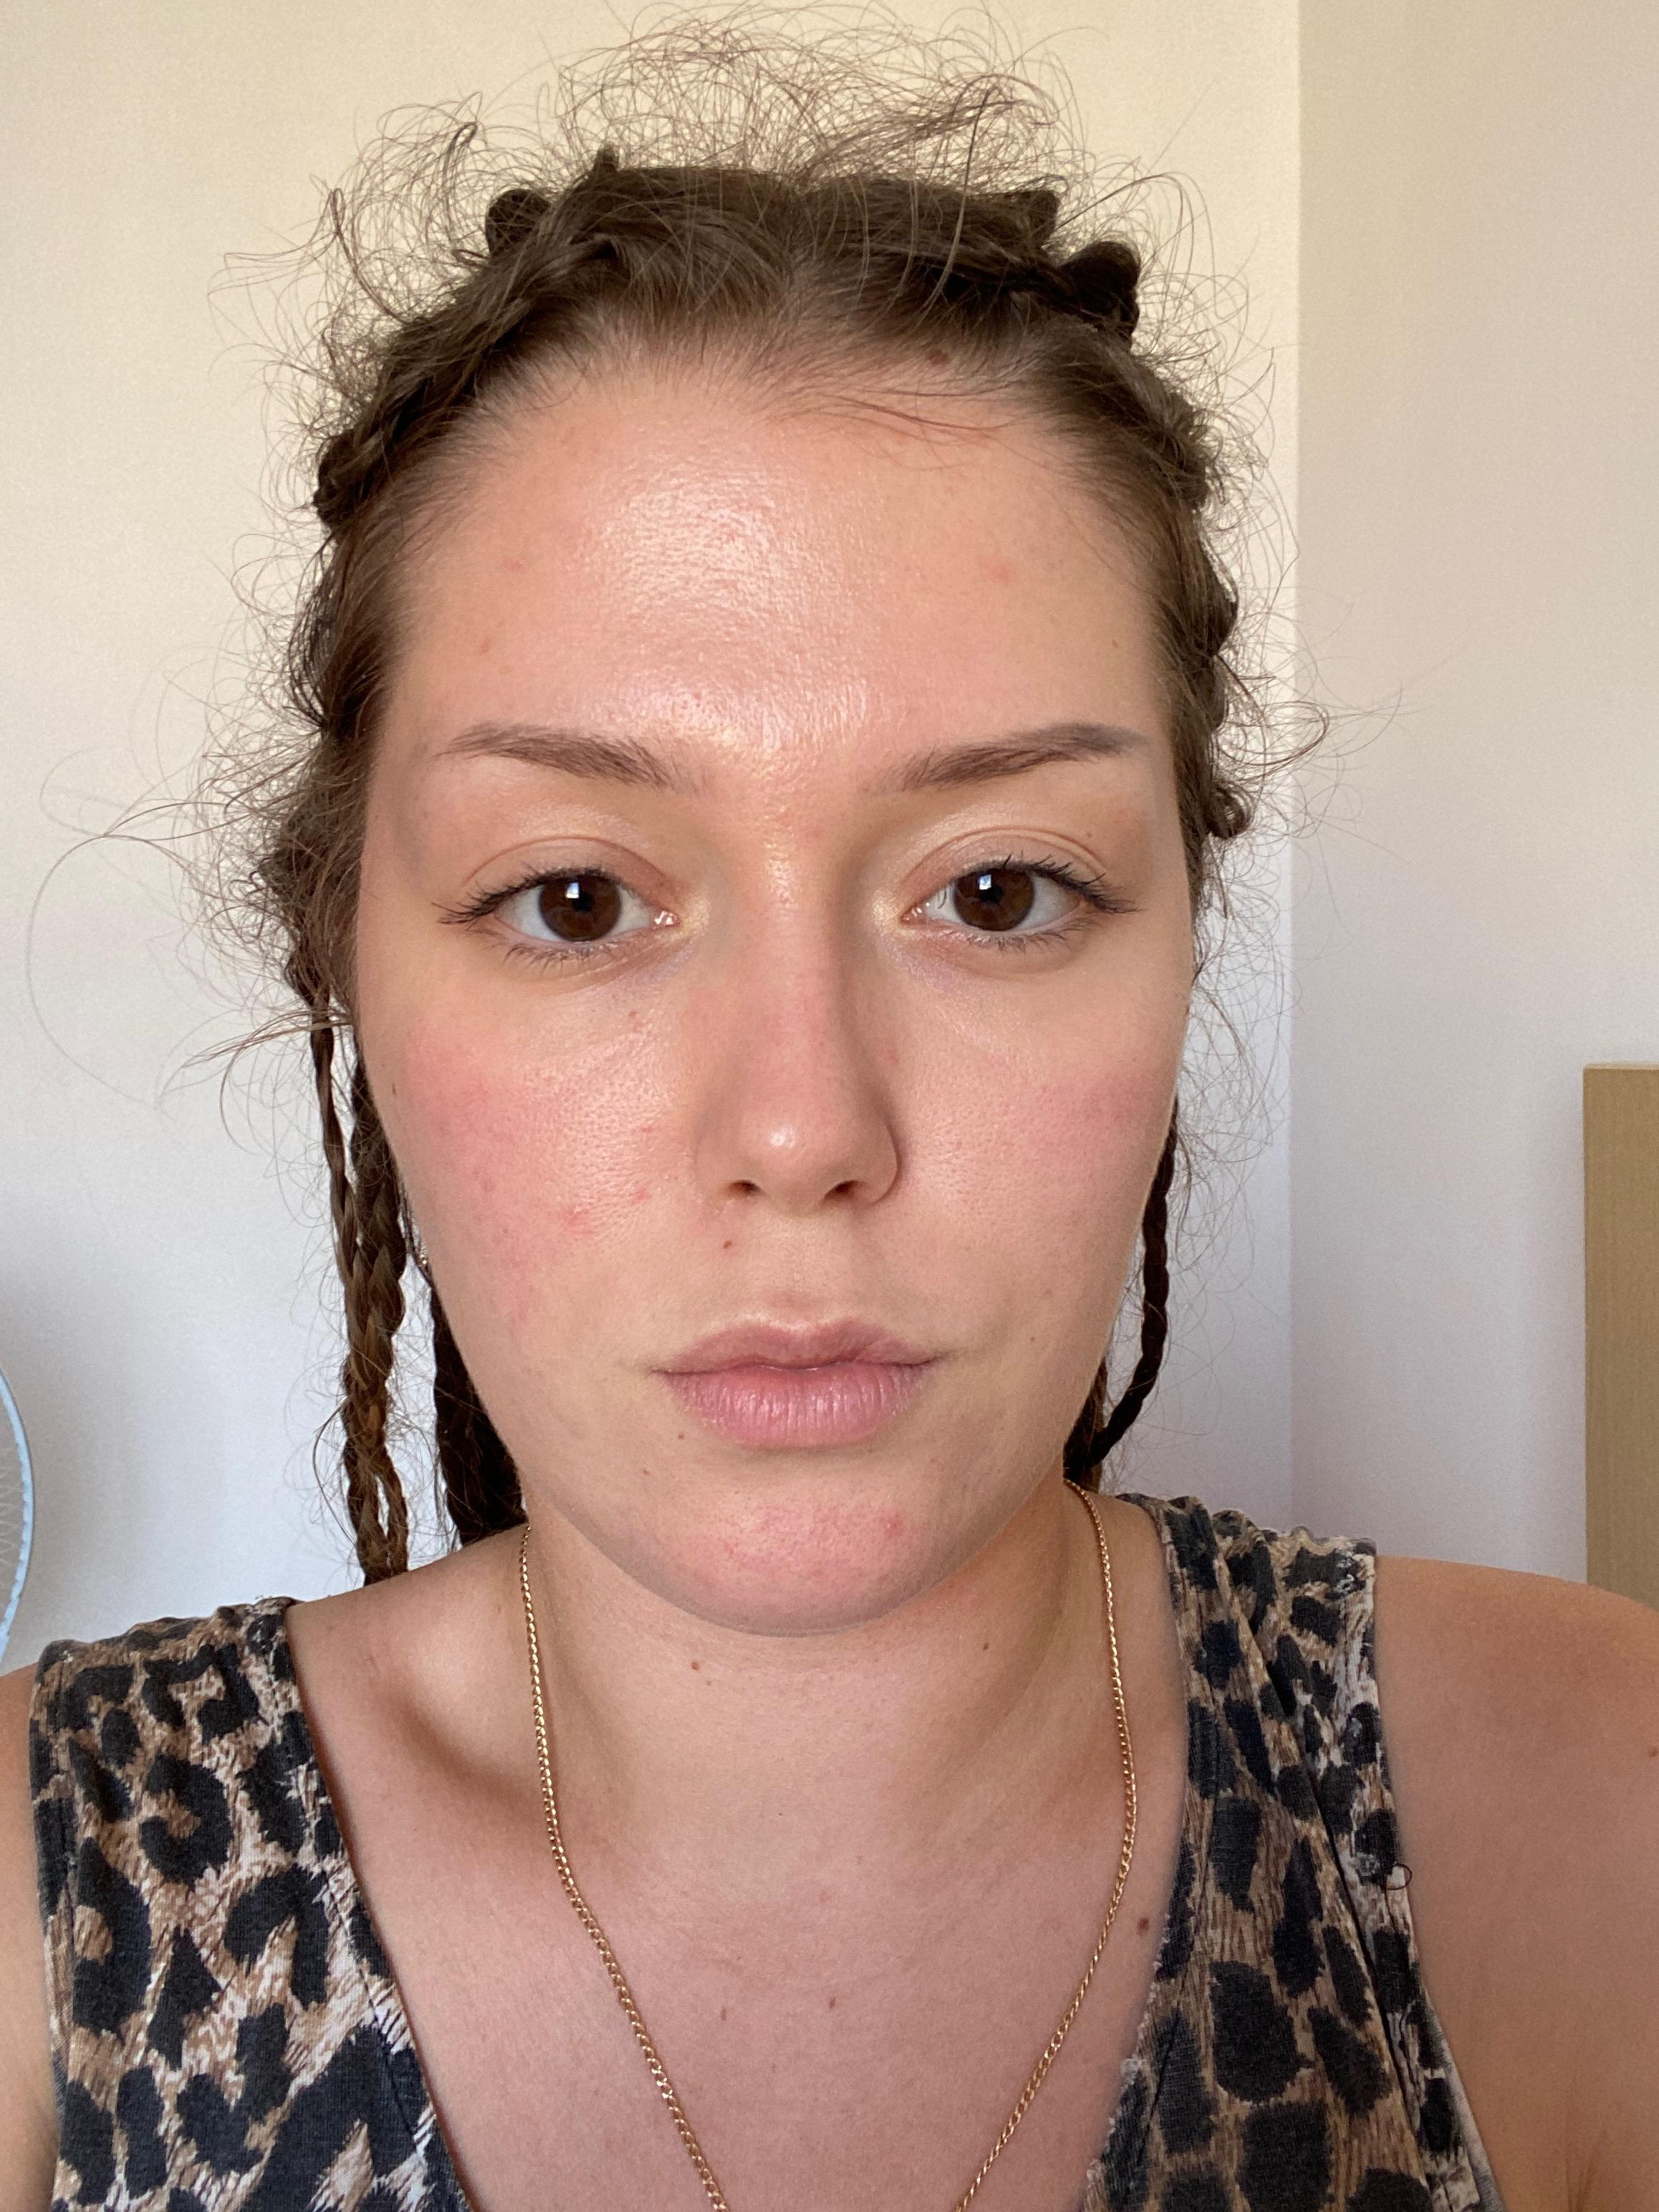Acne: (500, 1275, 544, 1338), (974, 552, 1021, 590), (875, 1507, 911, 1548), (554, 1193, 587, 1235), (626, 1177, 660, 1209), (490, 556, 533, 580), (880, 1036, 901, 1076), (481, 1174, 498, 1200), (477, 634, 493, 662), (634, 1120, 660, 1136)
Englarged-Pores: (605, 463, 866, 632), (920, 1042, 1143, 1224), (521, 1029, 676, 1254), (601, 660, 894, 752), (694, 1500, 927, 1592), (749, 749, 816, 930)
